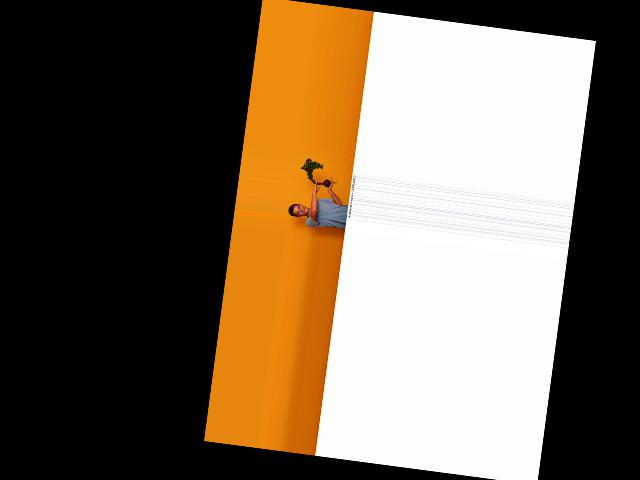beet: (299, 157, 340, 187)
